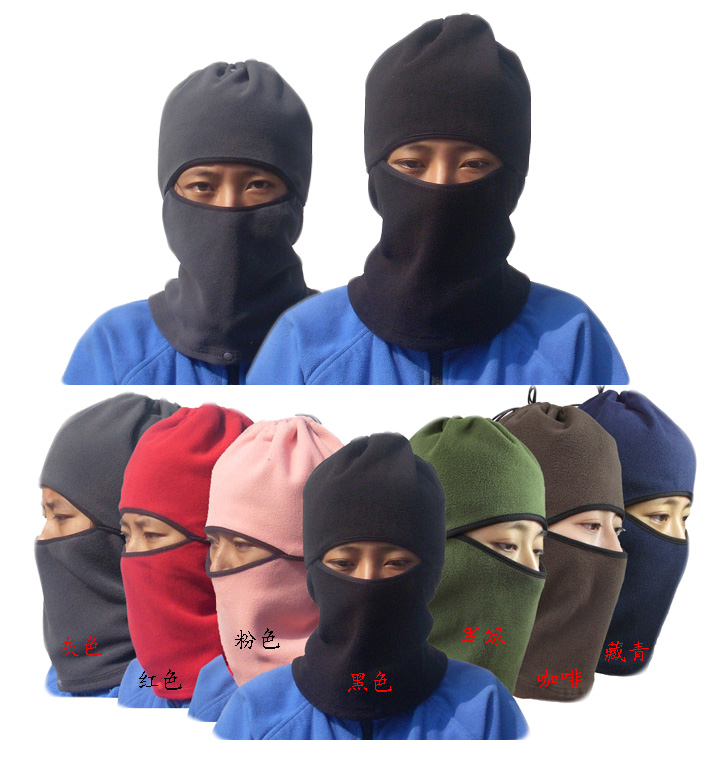face_mask: (370, 90, 512, 297), (167, 120, 296, 299), (316, 515, 425, 650), (546, 480, 629, 628), (209, 498, 300, 631), (444, 503, 540, 628), (34, 471, 118, 604), (626, 477, 689, 630), (120, 495, 201, 611)
